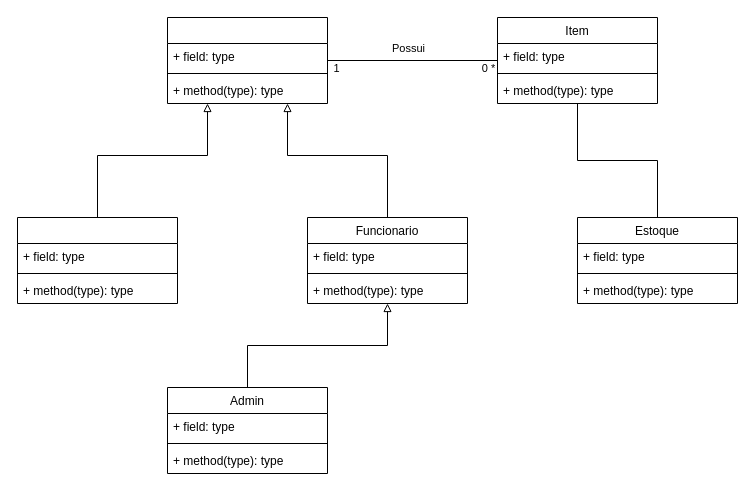
Image size: 755x494. Some labels were removed from this diagram. Each missing label, with the box of its shape:
Pessoa: (166, 16, 328, 104)
User: (16, 216, 178, 304)
